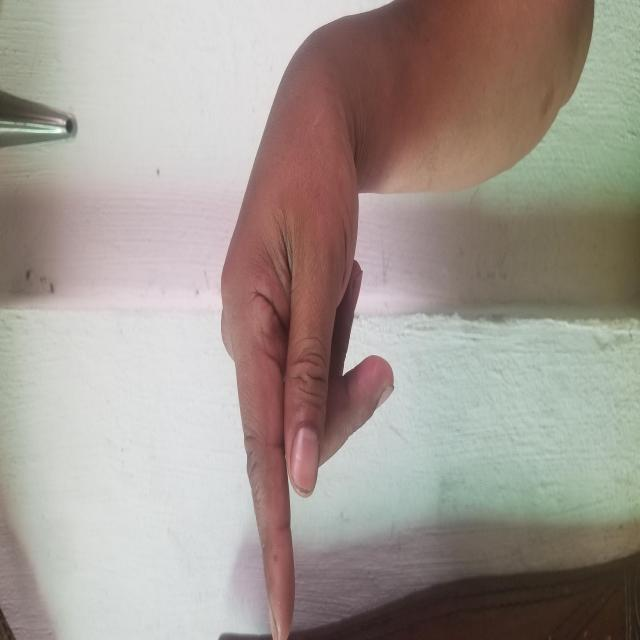P: (160, 75, 425, 640)
